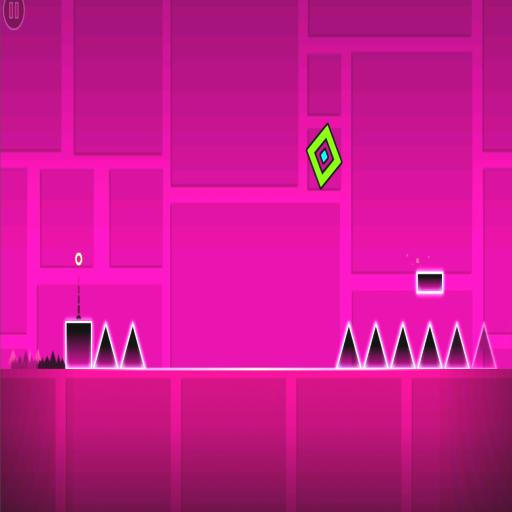block: (63, 314, 93, 374), (413, 267, 447, 297)
player: (307, 123, 342, 188)
spike: (472, 323, 497, 368), (337, 322, 361, 368), (121, 322, 145, 367), (445, 323, 469, 367), (391, 322, 414, 367), (94, 323, 117, 368), (365, 322, 387, 367), (418, 323, 440, 367)
